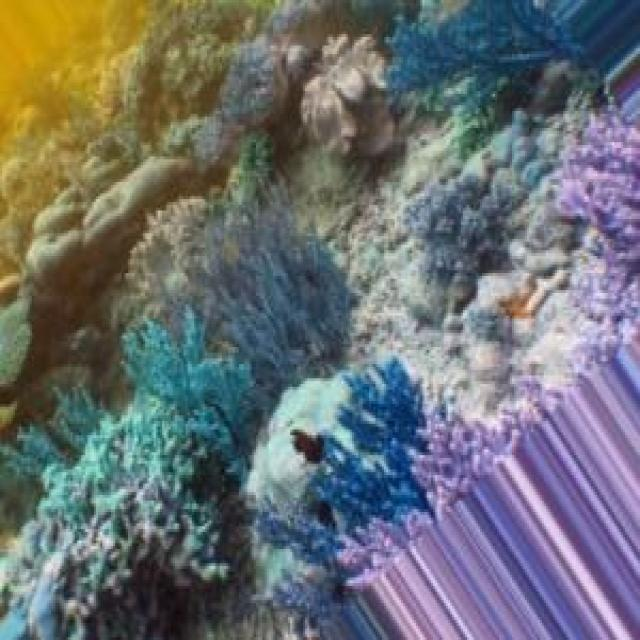Healthy: (125, 322, 261, 632), (24, 411, 180, 640), (276, 362, 432, 578), (207, 188, 356, 407), (391, 1, 600, 149), (22, 157, 231, 305), (120, 1, 270, 152), (266, 1, 396, 163), (402, 169, 528, 328), (556, 106, 640, 328)
